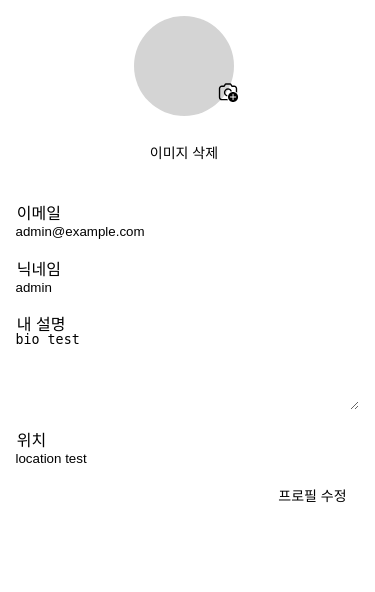
Test: Should have a delete confirm message after clicking delete avatar button
Click the button "이미지 삭제": (184, 152) [137,136,231,167]
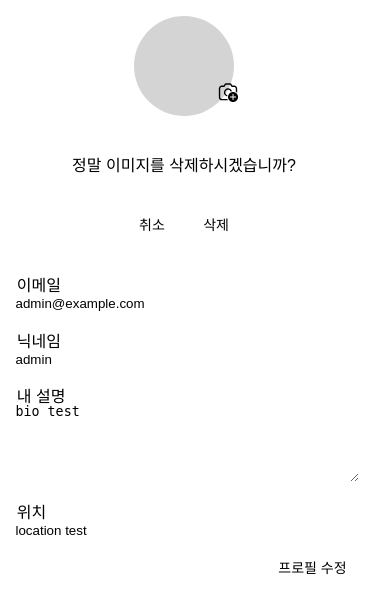
Result: the text "정말 이미지를 삭제하시겠습니까?" is shown at [72,152,296,176]
Result: the button "취소" is shown at [128,208,176,239]
Result: the button "삭제" is shown at [192,208,240,239]
